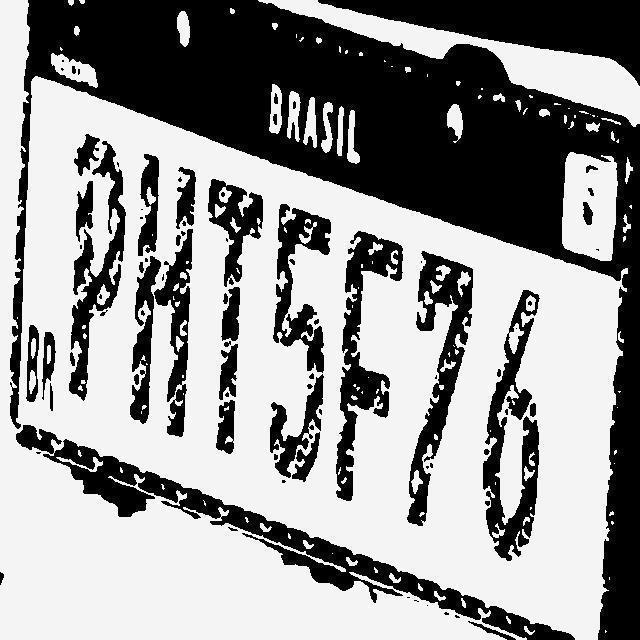5: (265, 209, 337, 489)
6: (483, 292, 552, 562)
7: (405, 245, 487, 538)
f: (339, 230, 412, 518)
h: (131, 157, 203, 451)
p: (60, 133, 135, 420)
t: (199, 174, 268, 471)
